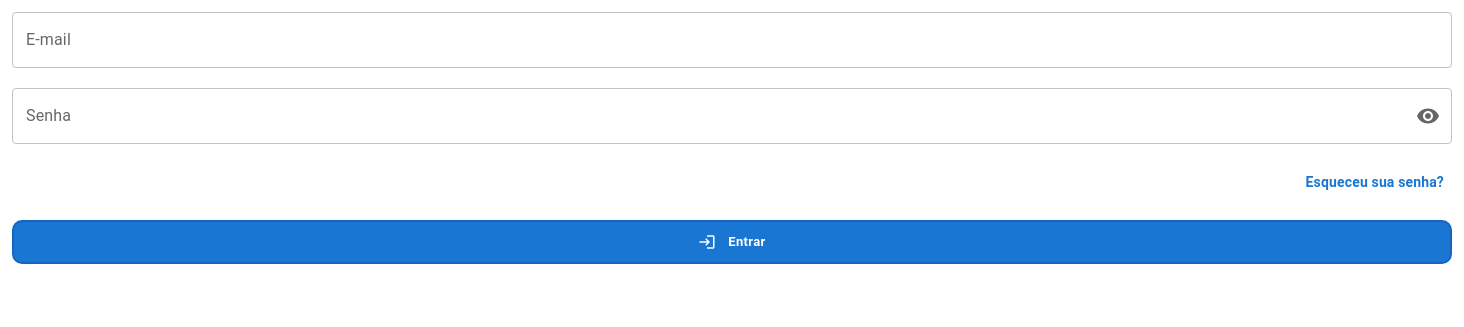
LoginForm component › displays field validation errors when submitting empty fields
Click the button "Entrar" at [732, 242], box [12,220,1452,264]
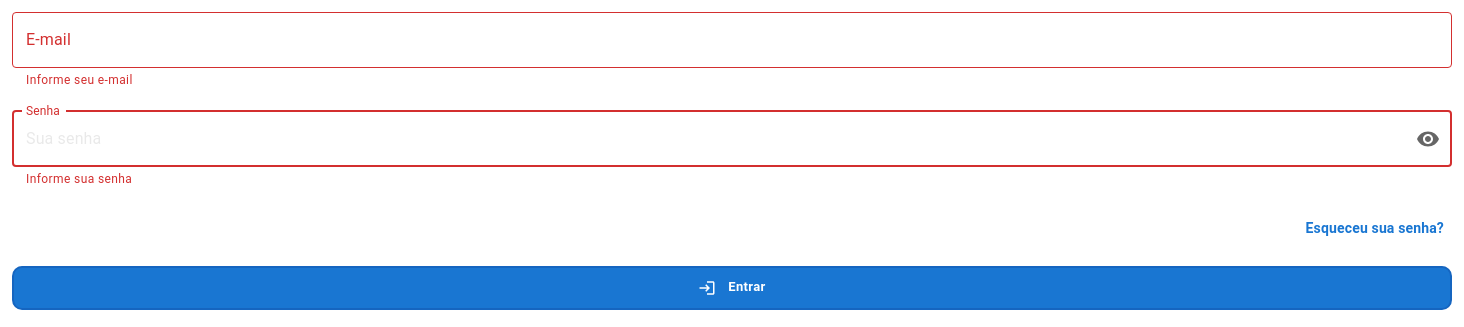
Expected: the text "Informe seu e-mail" is shown, [26,73,133,87]
Expected: the text "Informe sua senha" is shown, [26,172,132,186]
